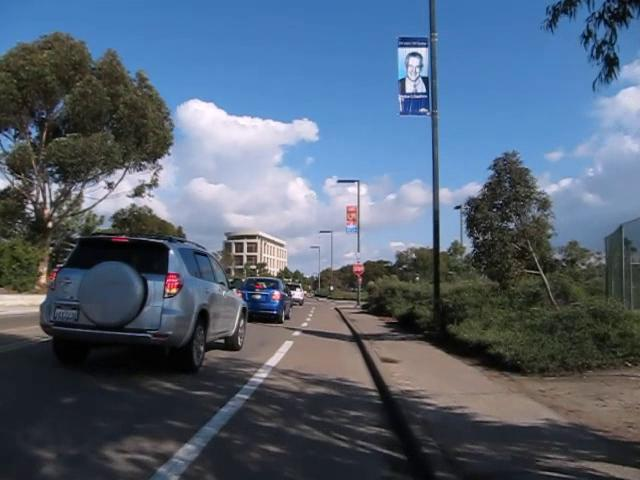stop: (351, 262, 364, 276)
